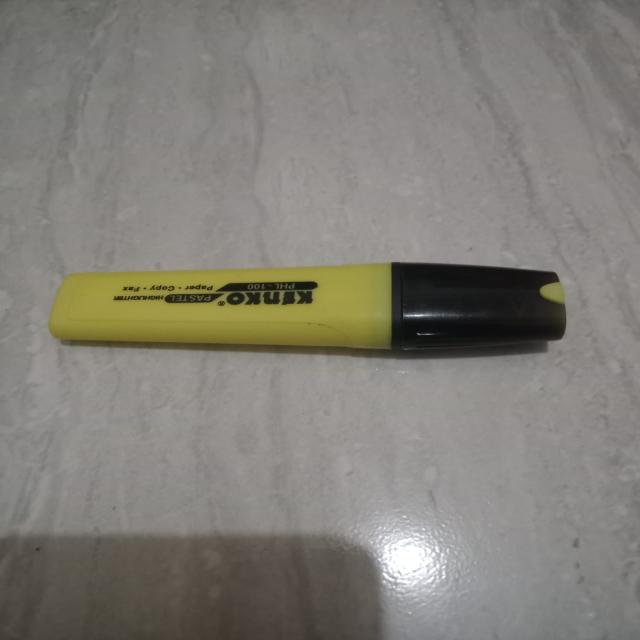highlighter: (32, 240, 605, 374)
